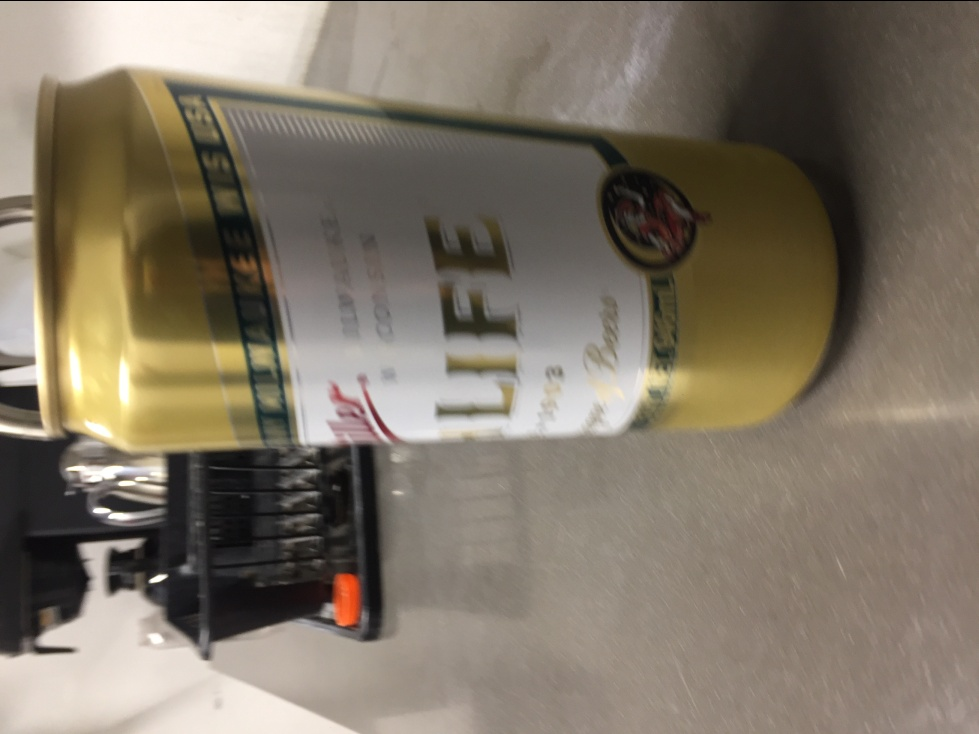miller: (27, 63, 844, 451)
